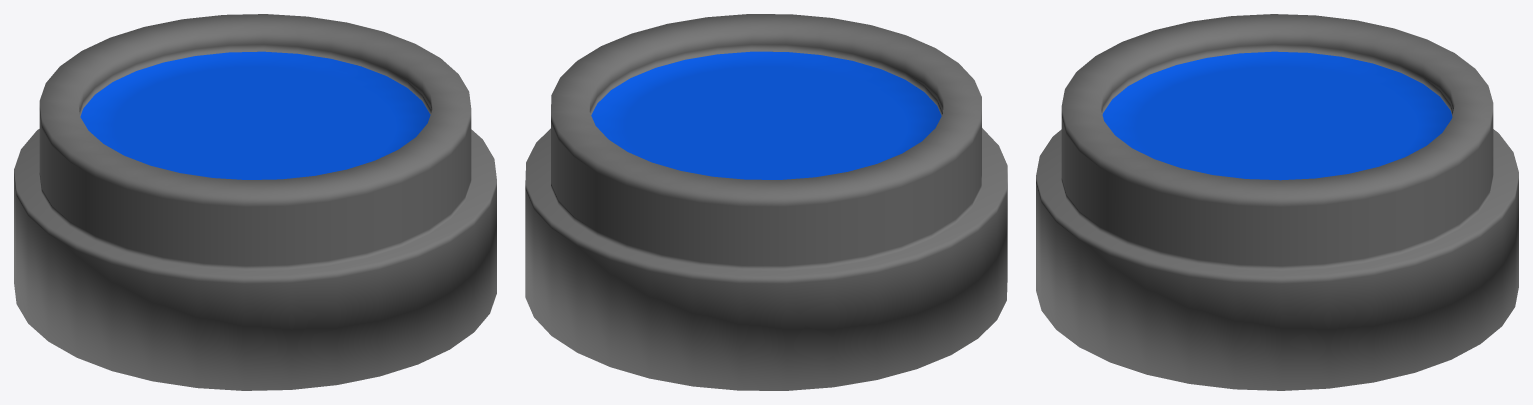
The model's file is WEB3_BIGISLAND_REMESHED_BATH.gltf.
The picture shows the model from 3 angles, left to right: view 1: azimuth 30°, elevation 25°; view 2: azimuth 150°, elevation 25°; view 3: azimuth 270°, elevation 25°; orthographic projection.
Parts seen in each view (by area): view 1: OS bath; view 2: OS bath; view 3: OS bath.
Part boxes in pixels (left/top/right/bottom): OS bath: left=14, top=14, right=496, bottom=390; OS bath: left=525, top=14, right=1007, bottom=390; OS bath: left=1036, top=14, right=1518, bottom=390.
Size of the model in its own units: 2.92 by 1.26 by 2.92.
